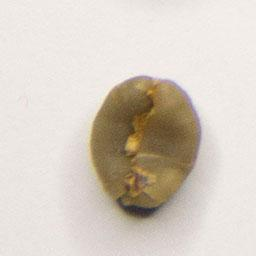premium: (86, 71, 204, 212)
